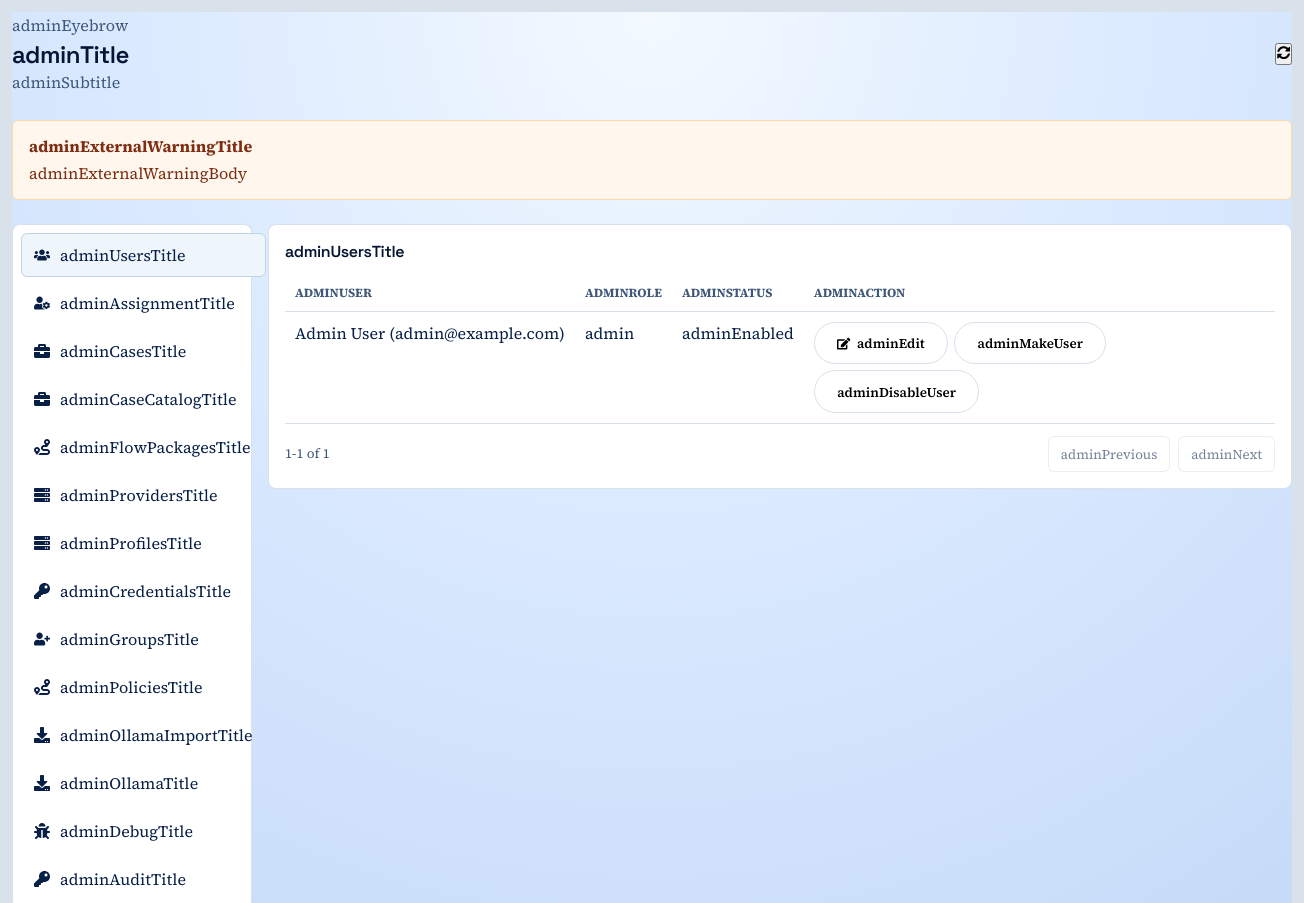
AIModelAdmin Ollama management › shows a user edit form and hides it after save or cancel
Click the button "adminEdit" at (881, 343), box [814,322,948,364]
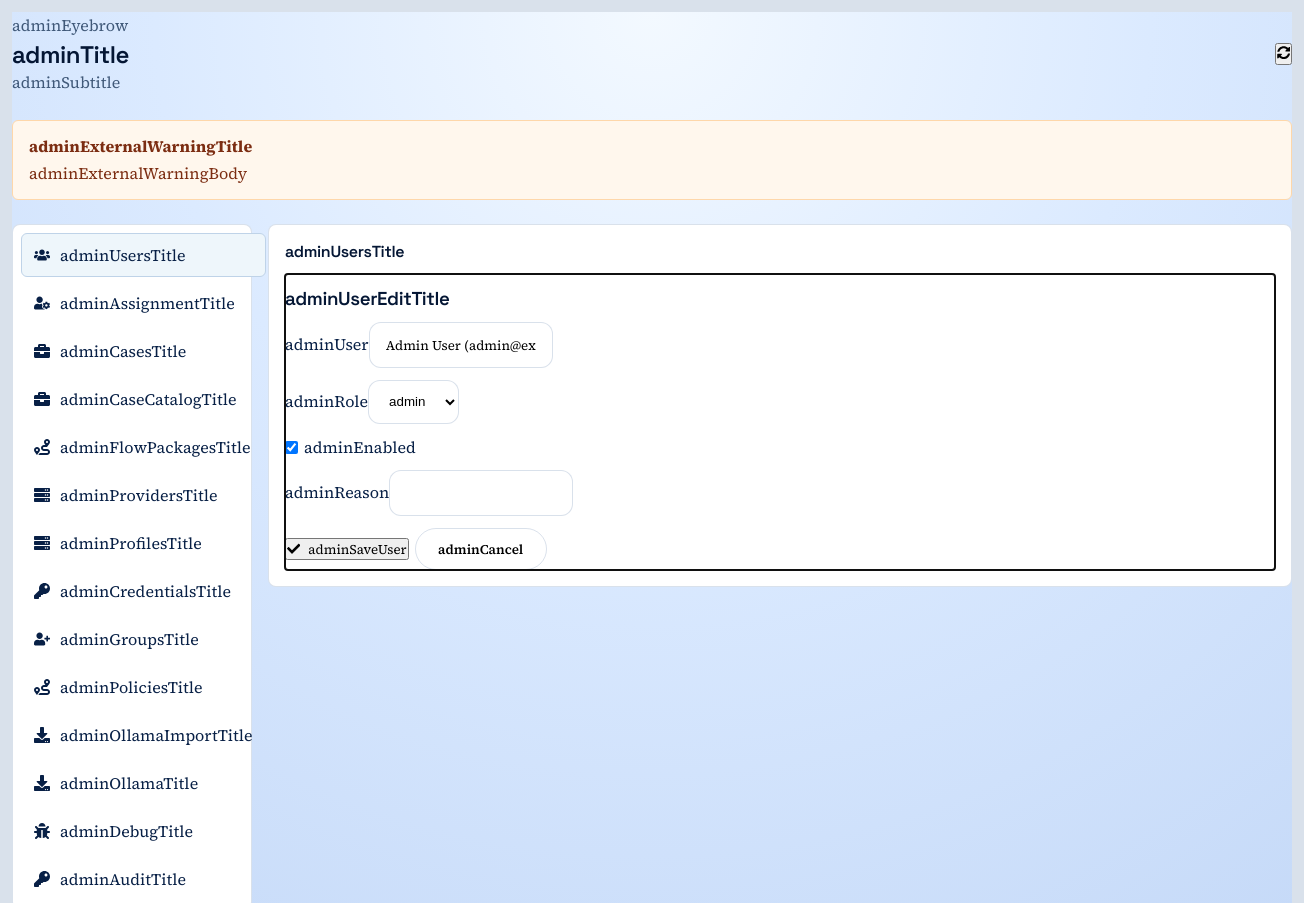
expect the heading "adminUserEditTitle" is shown: met, box [285,287,450,310]
Select "user" in the dropdown labelled "adminRole" at (414, 402), box [368,380,459,424]
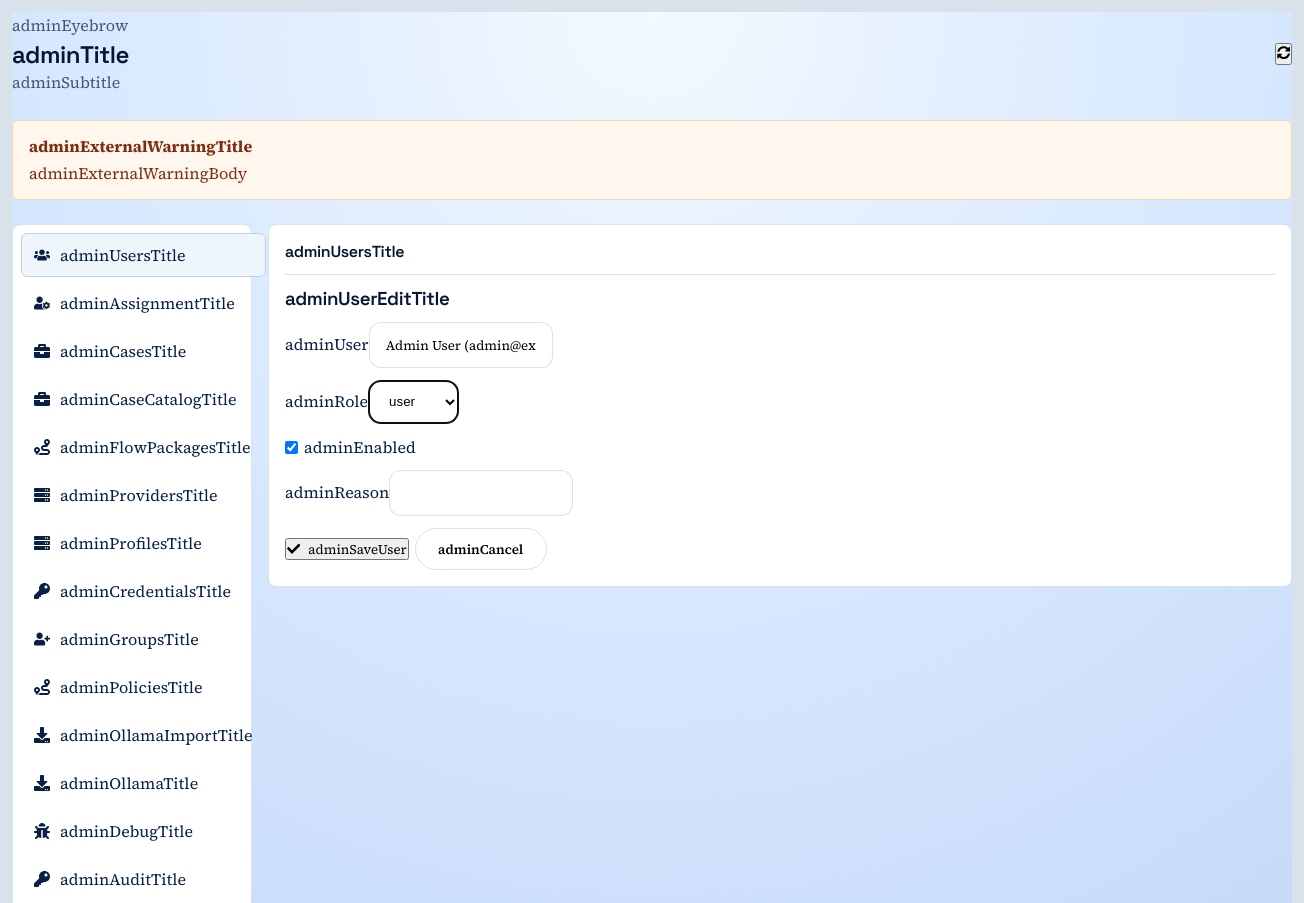
Type "Update user from table." into the field labelled "adminReason" at (481, 493), box [389,470,573,516]
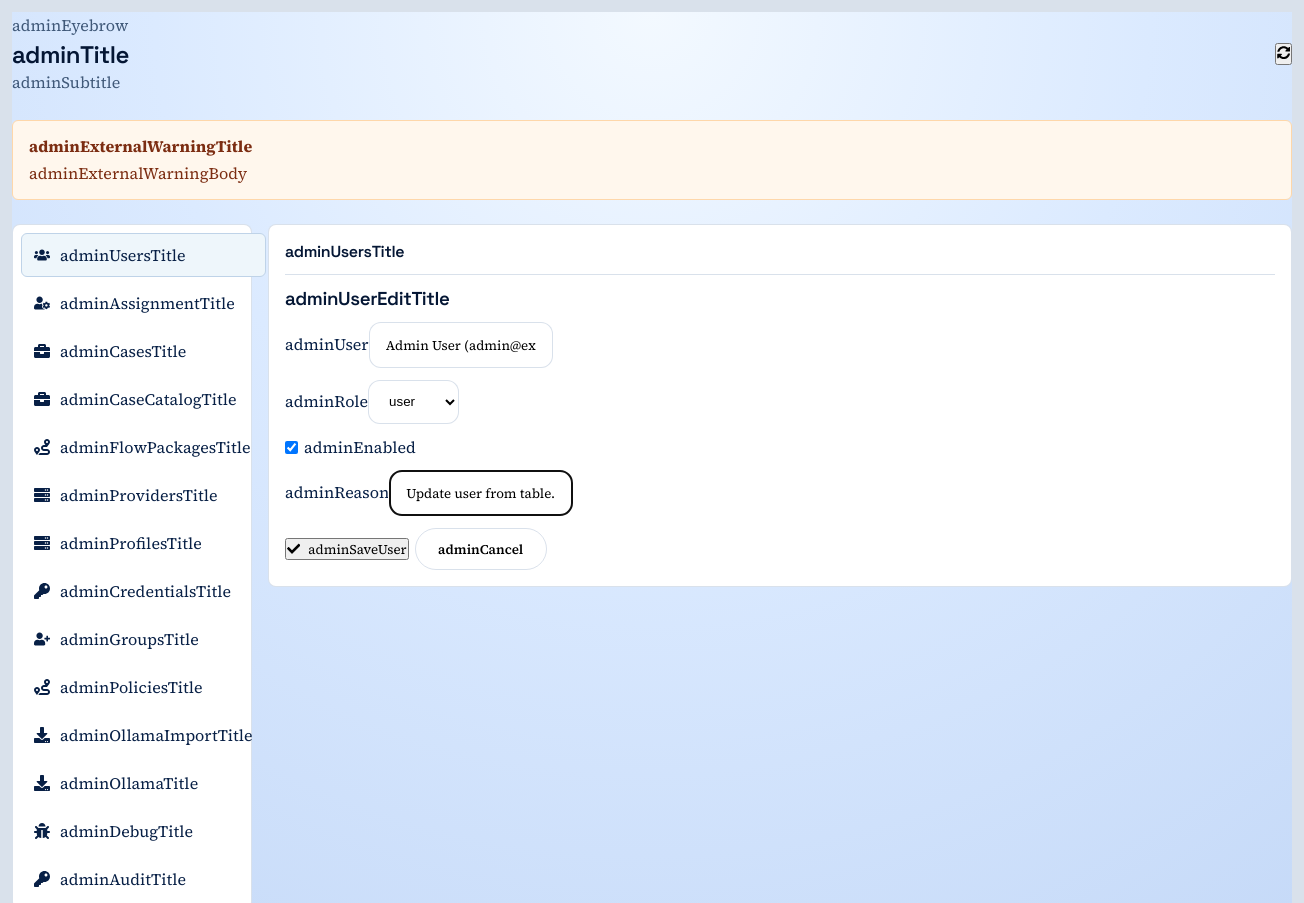
Click the button "adminSaveUser" at (347, 549), box [285,538,409,560]
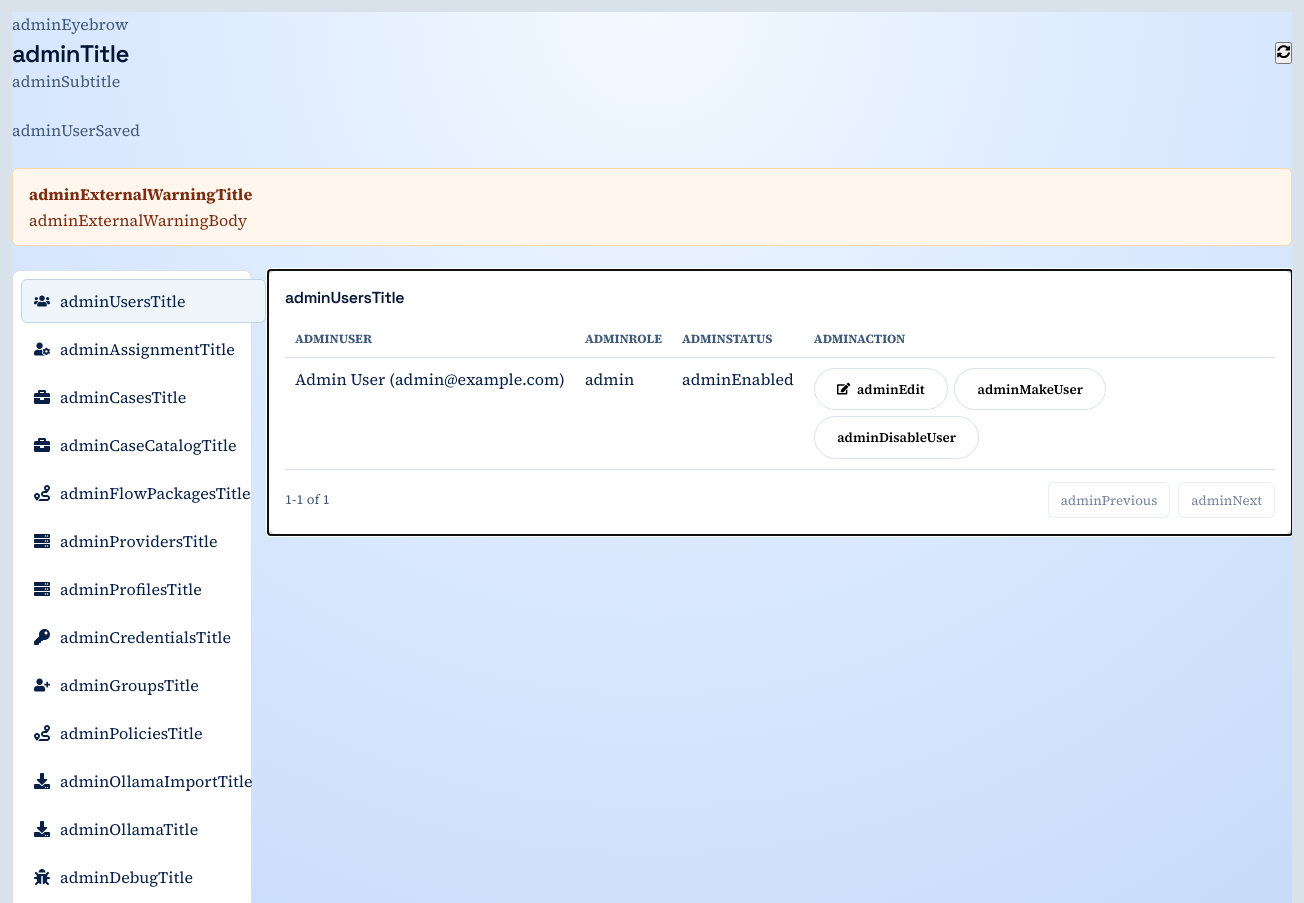
expect the heading "adminUserEditTitle" is gone: met
Click the button "adminEdit" at (881, 389), box [814,368,948,410]
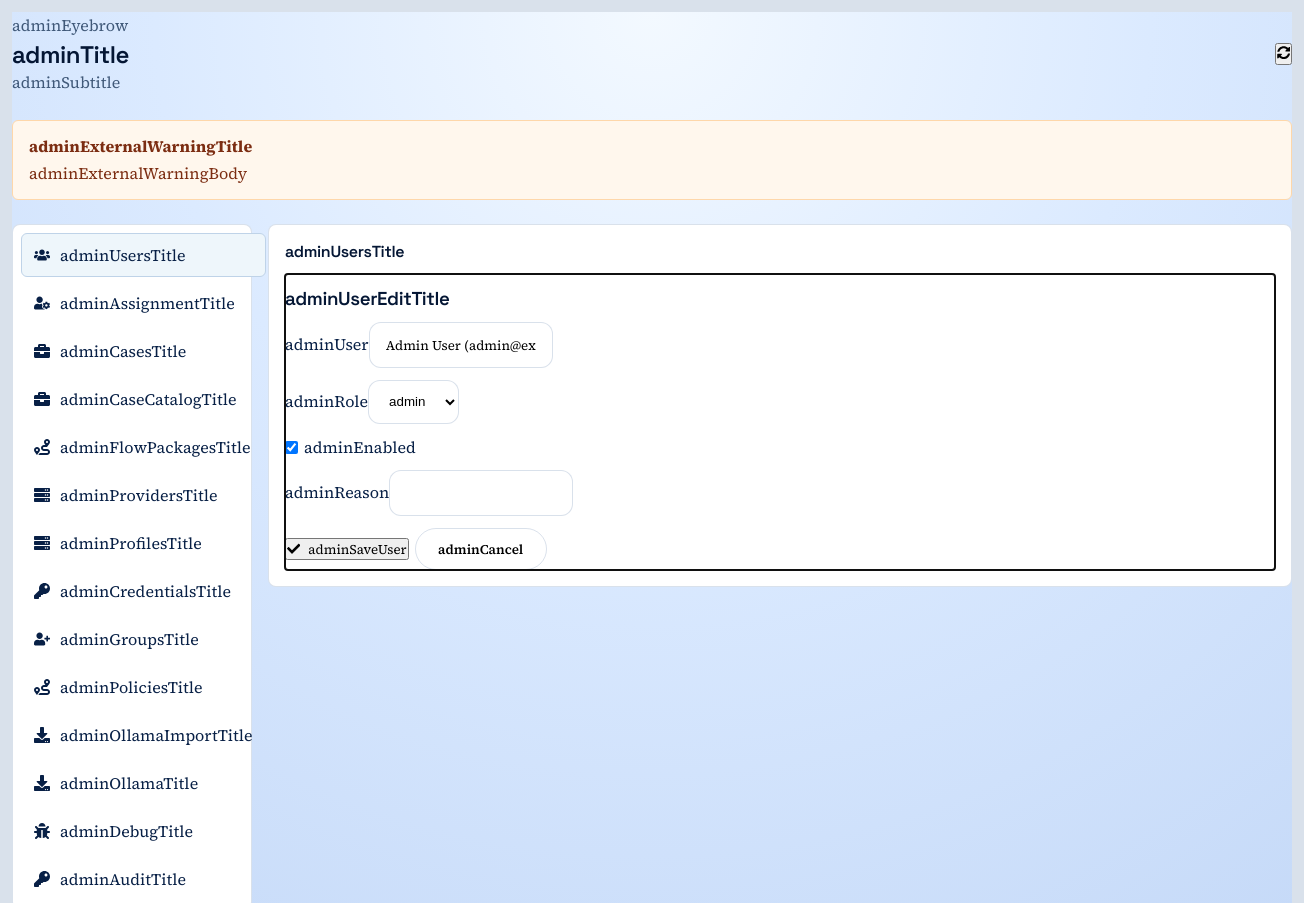
Click the button "adminCancel" at (481, 549), box [415,528,547,570]
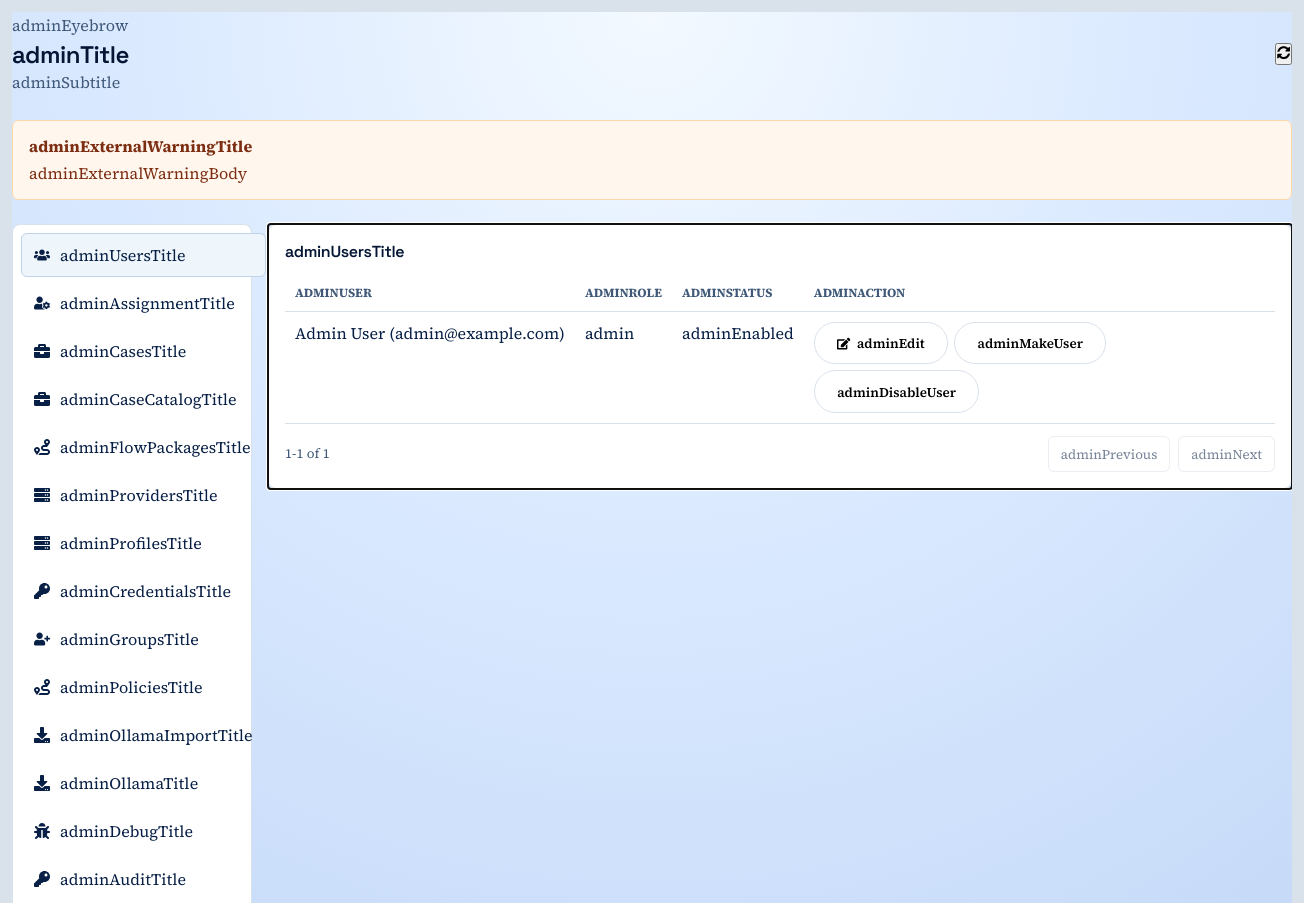
expect the heading "adminUserEditTitle" is gone: met
